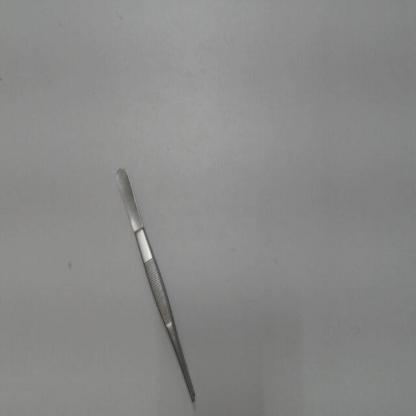Gillies Toothed Dissector: (107, 153, 202, 410)
